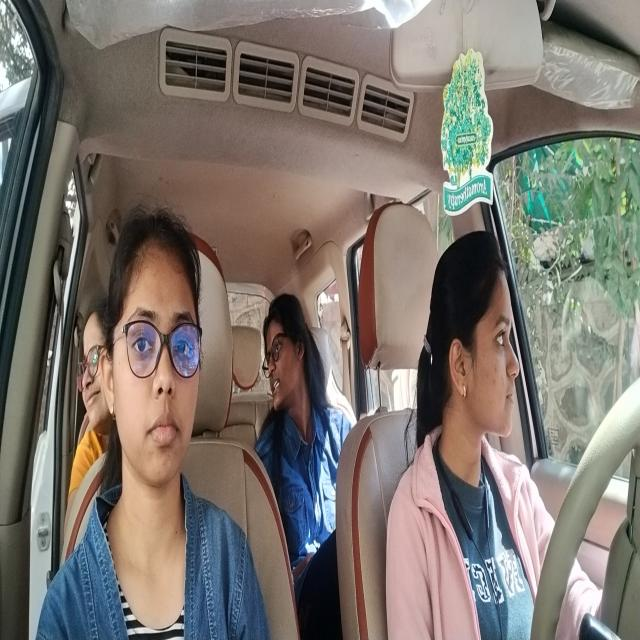LeftRight: (430, 240, 524, 444)
person: (117, 209, 202, 490), (258, 296, 310, 419), (83, 320, 107, 420)
